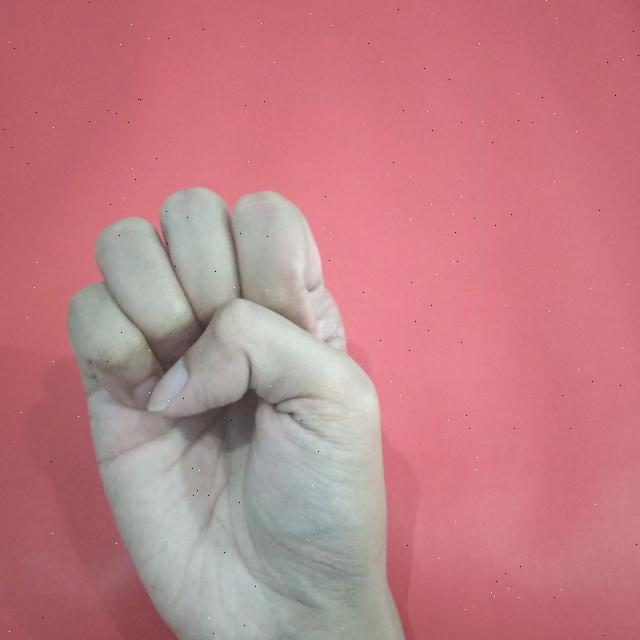S: (55, 182, 414, 640)
